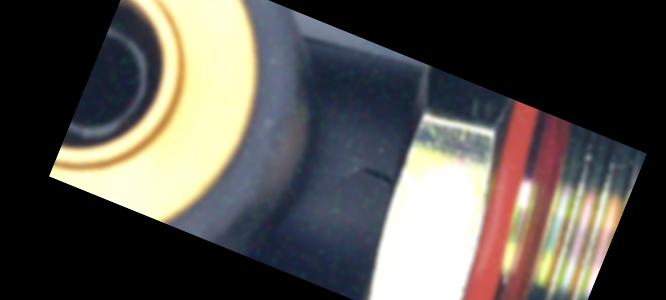craze: (359, 161, 401, 190)
white mark: (341, 159, 362, 182)
